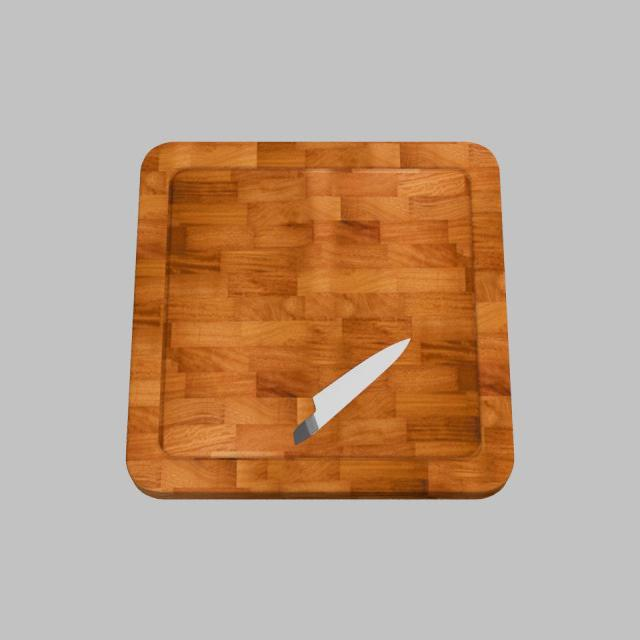knife: (239, 420, 312, 494)
